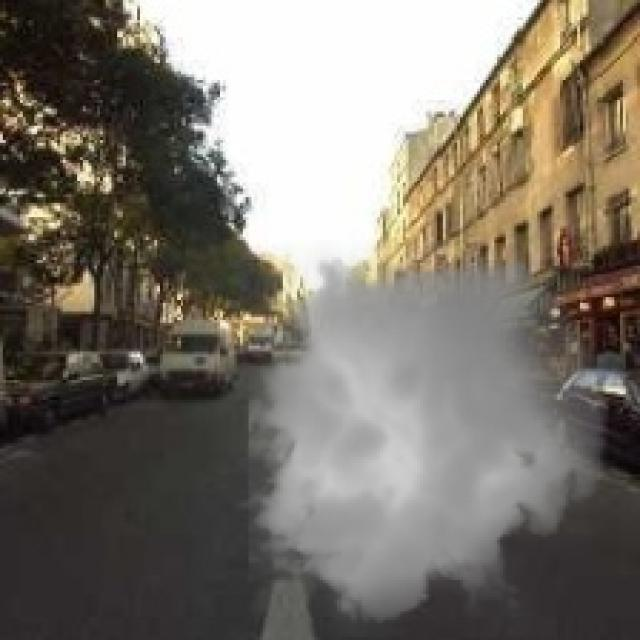smoke: (231, 240, 620, 637)
